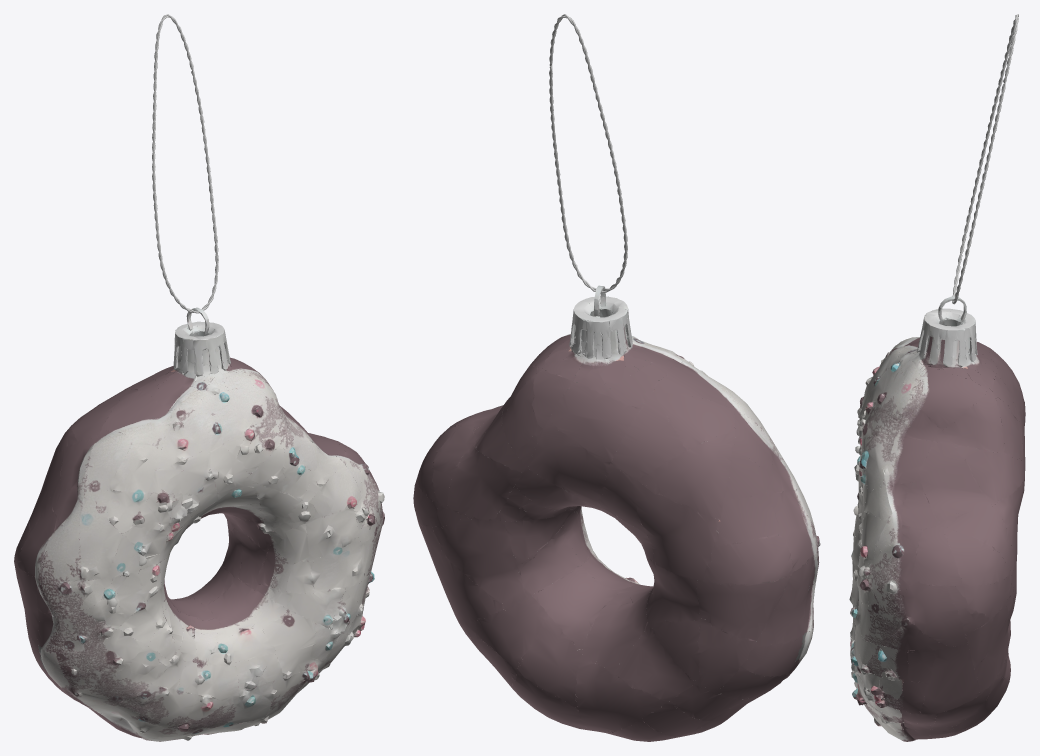
File: metal_donut3.glb
3 renders of one model, left to right at view 1: azimuth 30°, elevation 25°; view 2: azimuth 150°, elevation 25°; view 3: azimuth 270°, elevation 25°, orthographic. The views are drawn at different scales.
Visible parts, largest first — view 1: mesh_0, GN Instance; view 2: mesh_0, GN Instance; view 3: mesh_0, GN Instance.
Boxes of the visible parts, box(x1,y1,x2,y2) form: mesh_0: box(14, 307, 384, 741); GN Instance: box(152, 14, 218, 313); mesh_0: box(413, 285, 820, 741); GN Instance: box(549, 14, 627, 293); mesh_0: box(849, 296, 1025, 741); GN Instance: box(952, 14, 1018, 304).
Size of the model in its own units: 0.0751 by 0.1411 by 0.0318.
2 materials, 1 textured.
